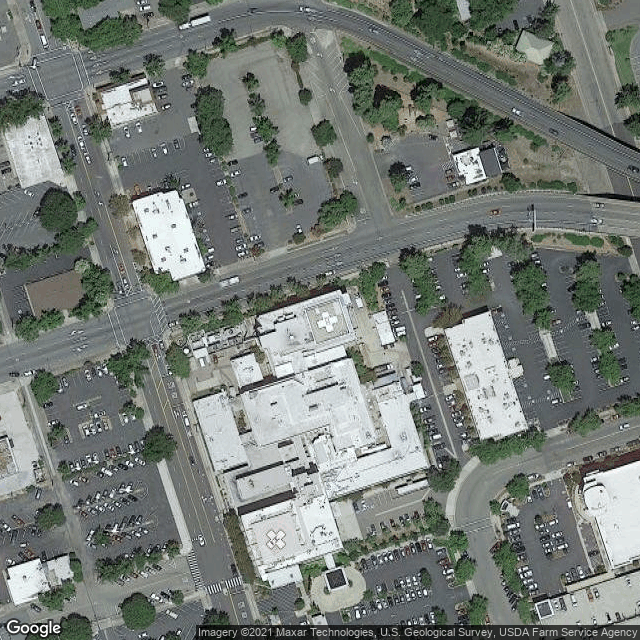Helipad: (249, 514, 303, 561), (302, 300, 354, 343)
